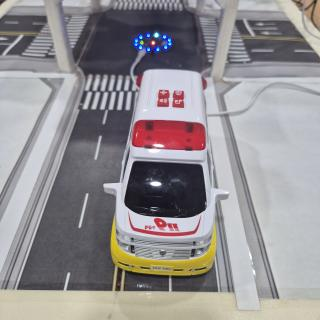Ambulance: (103, 69, 229, 275)
